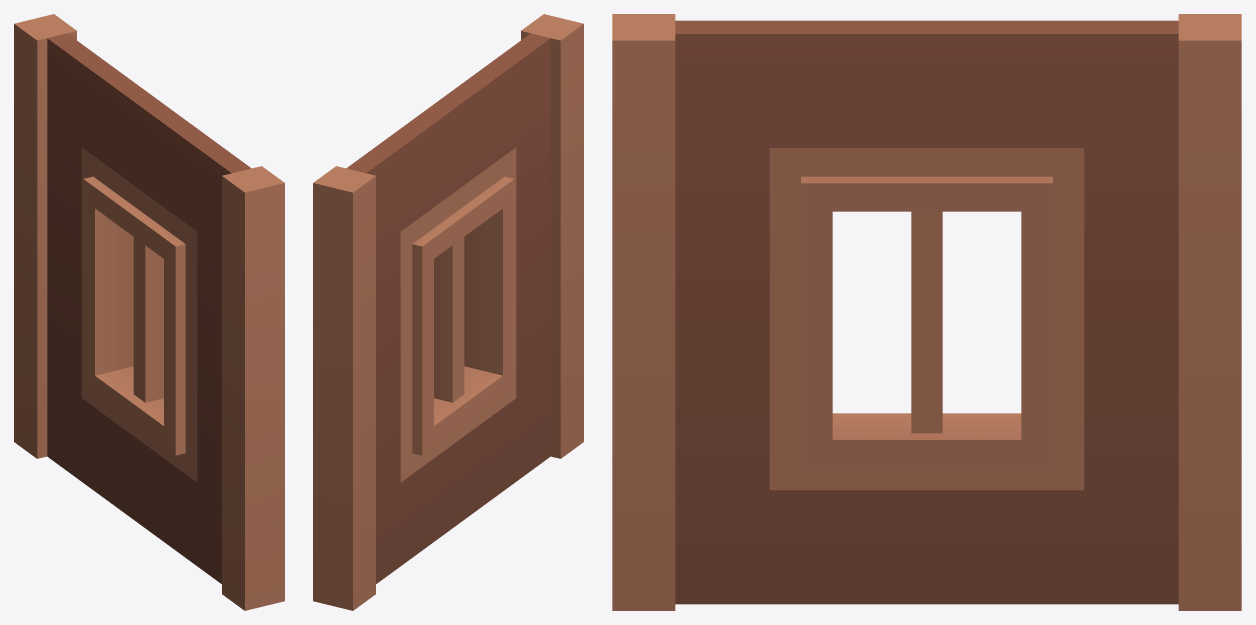
The model's file is wall-wood-window-shutters.glb.
3 views of the same model, side by side, from view 1: azimuth 30°, elevation 25°; view 2: azimuth 150°, elevation 25°; view 3: azimuth 270°, elevation 25° (orthographic). The views are drawn at different scales.
Parts seen in each view (by area): view 1: wall-wood-window-shutters; view 2: wall-wood-window-shutters; view 3: wall-wood-window-shutters.
Part boxes in pixels (<box>): wall-wood-window-shutters: <box>14,14,284,610</box>; wall-wood-window-shutters: <box>313,14,583,610</box>; wall-wood-window-shutters: <box>612,14,1241,610</box>.
Bounding box in the file's own units: 0.1 × 1 × 1.
Materials: 1 (1 with a texture image).
